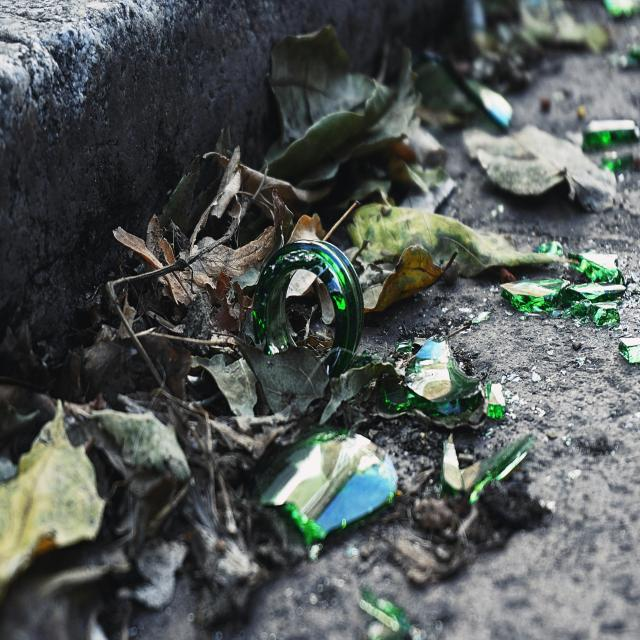glass: (274, 438, 398, 549), (298, 248, 357, 307)
